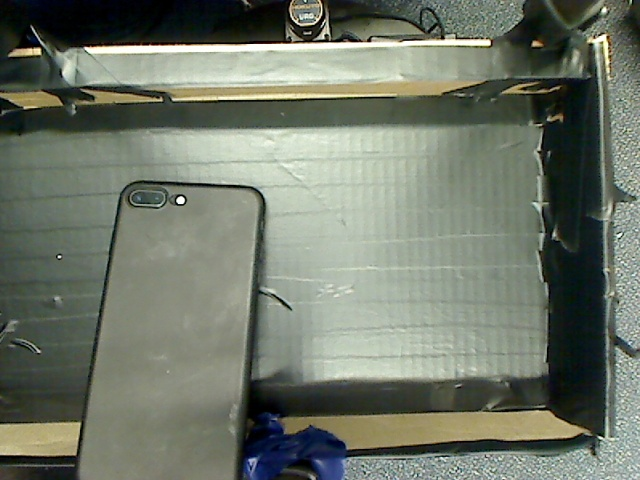phone: (73, 177, 278, 480)
